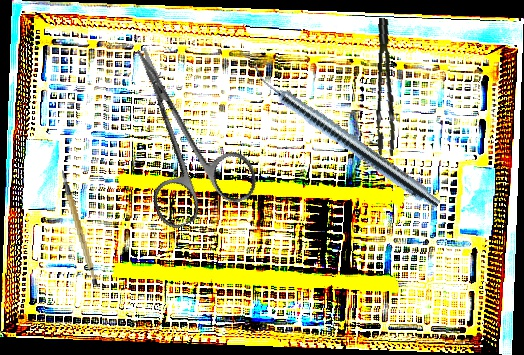Handpiece: (245, 63, 446, 212)
Iris Scissors: (95, 26, 264, 234)
Scalpel Handle: (60, 167, 100, 288)
Tissue Forceps: (364, 17, 408, 157)
